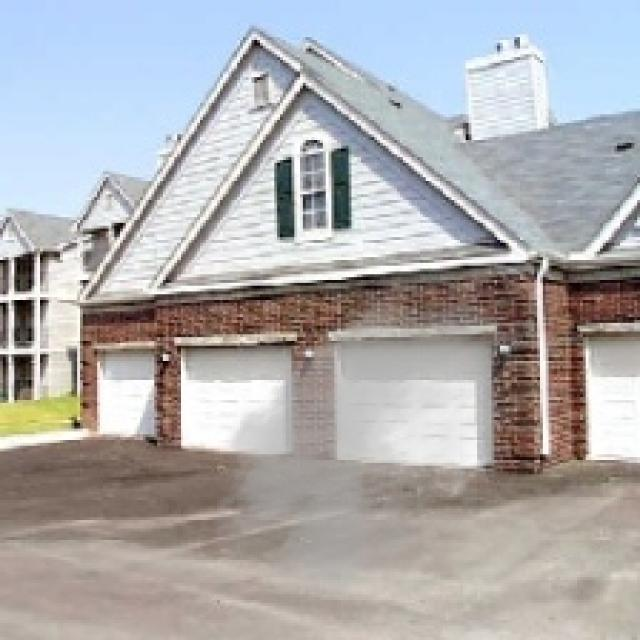smoke: (200, 254, 569, 620)
